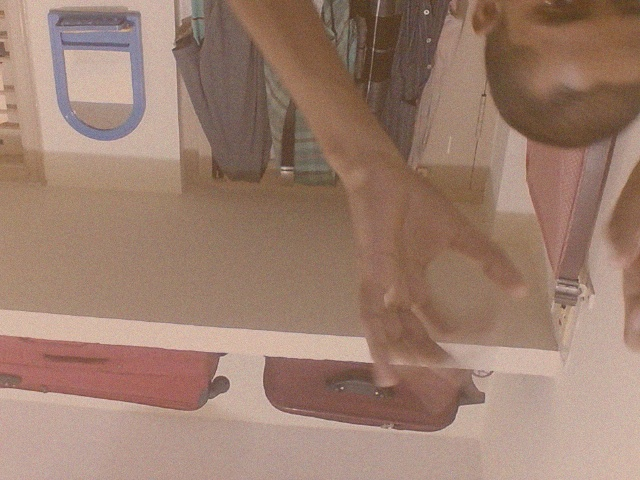hand: (329, 159, 527, 422)
